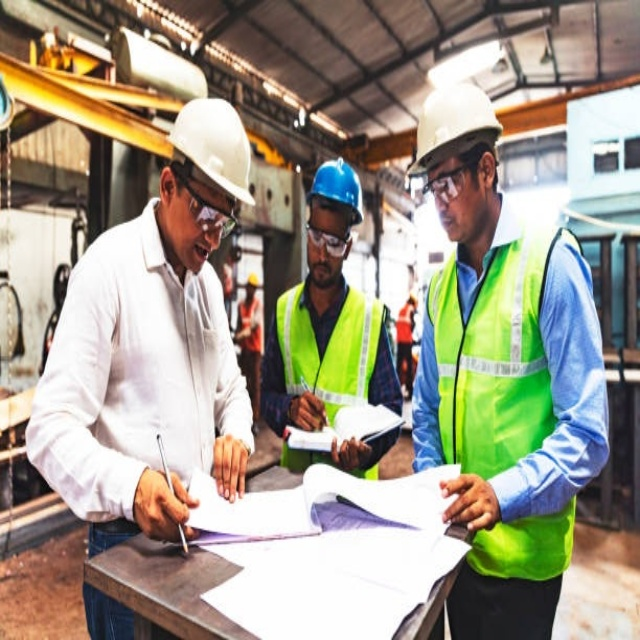Gafas: (175, 168, 239, 242), (421, 162, 478, 207), (306, 218, 353, 257)
Sin_guantes: (133, 467, 198, 543), (439, 470, 501, 534), (212, 433, 252, 502), (330, 433, 372, 472), (291, 390, 328, 433)
Sin_mascara: (187, 240, 213, 275), (437, 205, 463, 240), (308, 259, 330, 282)
